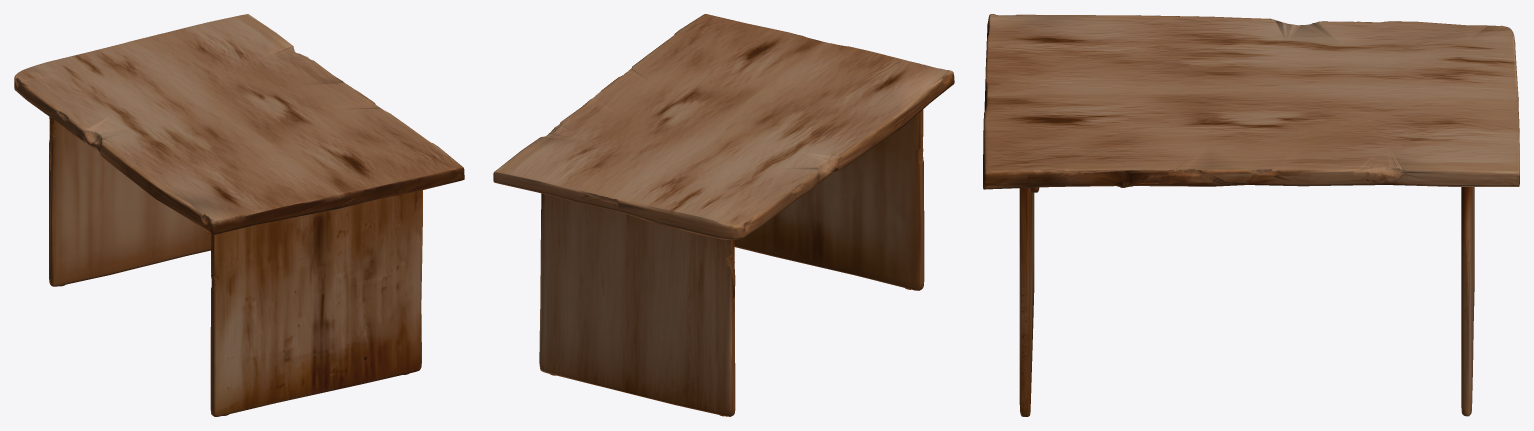
File: reel-desk.glb
3 views of the same model, side by side, from view 1: azimuth 30°, elevation 25°; view 2: azimuth 150°, elevation 25°; view 3: azimuth 270°, elevation 25° (orthographic). The views are drawn at different scales.
Parts seen in each view (by area): view 1: tripo_node_45594210-7b72-4790-b48b-1ec0a7f4fd6e; view 2: tripo_node_45594210-7b72-4790-b48b-1ec0a7f4fd6e; view 3: tripo_node_45594210-7b72-4790-b48b-1ec0a7f4fd6e.
Boxes of the visible parts, x1=… form: tripo_node_45594210-7b72-4790-b48b-1ec0a7f4fd6e: x1=14, y1=14, x2=464, y2=416; tripo_node_45594210-7b72-4790-b48b-1ec0a7f4fd6e: x1=493, y1=14, x2=954, y2=416; tripo_node_45594210-7b72-4790-b48b-1ec0a7f4fd6e: x1=983, y1=14, x2=1519, y2=416.
Size of the model in its own units: 1.1 by 0.8875 by 1.6.
Materials: 1 (1 with a texture image).
